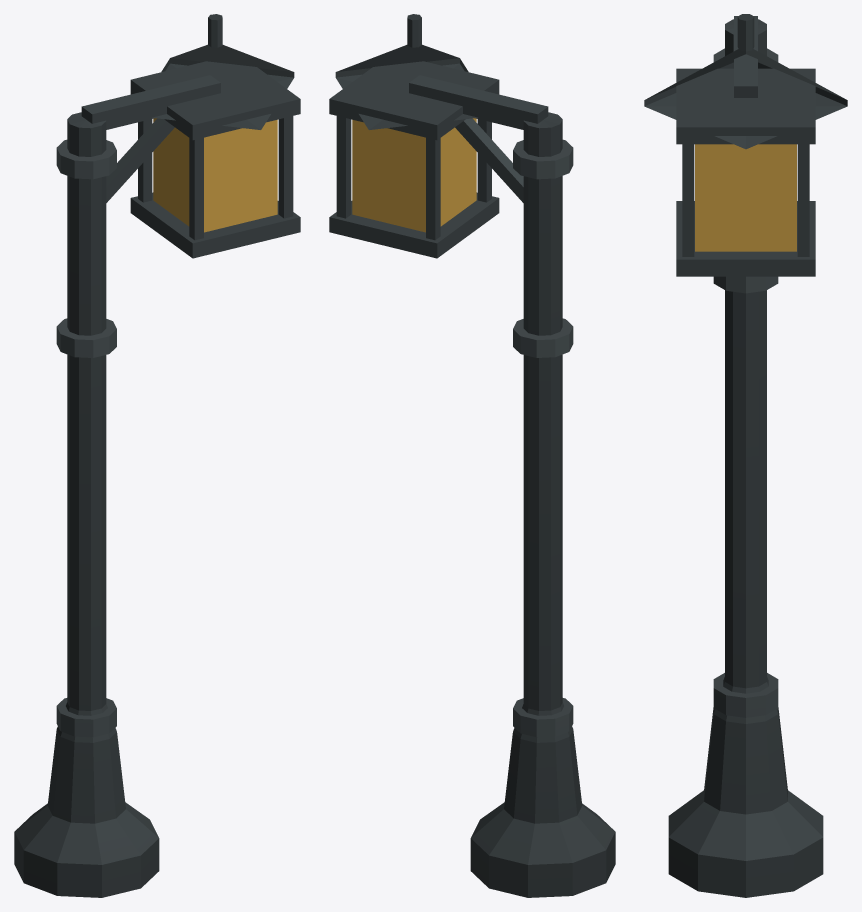
Rendered from town_lamp_post.glb.
The picture shows the model from 3 angles, left to right: view 1: azimuth 30°, elevation 25°; view 2: azimuth 150°, elevation 25°; view 3: azimuth 270°, elevation 25°; orthographic projection. The views are drawn at different scales.
Visible parts, largest first — view 1: town_lamp_post; view 2: town_lamp_post; view 3: town_lamp_post.
Part boxes in pixels (x1=…): town_lamp_post: x1=14, y1=14, x2=300, y2=897; town_lamp_post: x1=329, y1=14, x2=615, y2=897; town_lamp_post: x1=644, y1=14, x2=847, y2=897.
Bounding box in the file's own units: 1.03 × 2.98 × 0.6.
